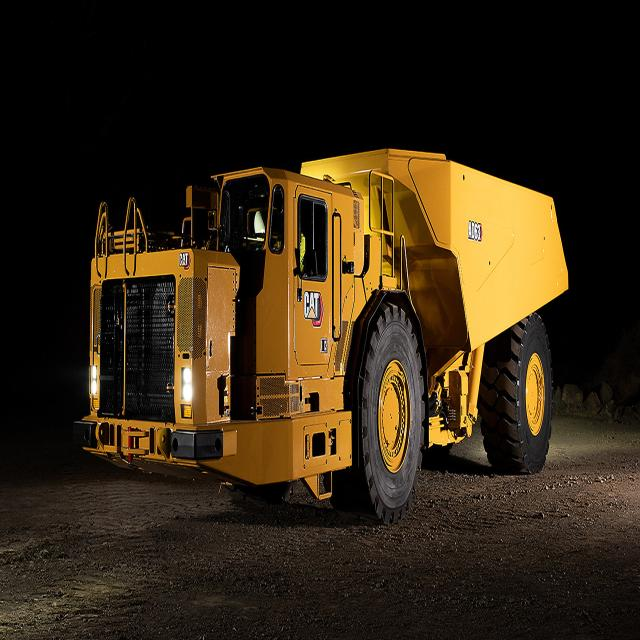dump_truck: (79, 92, 580, 493)
